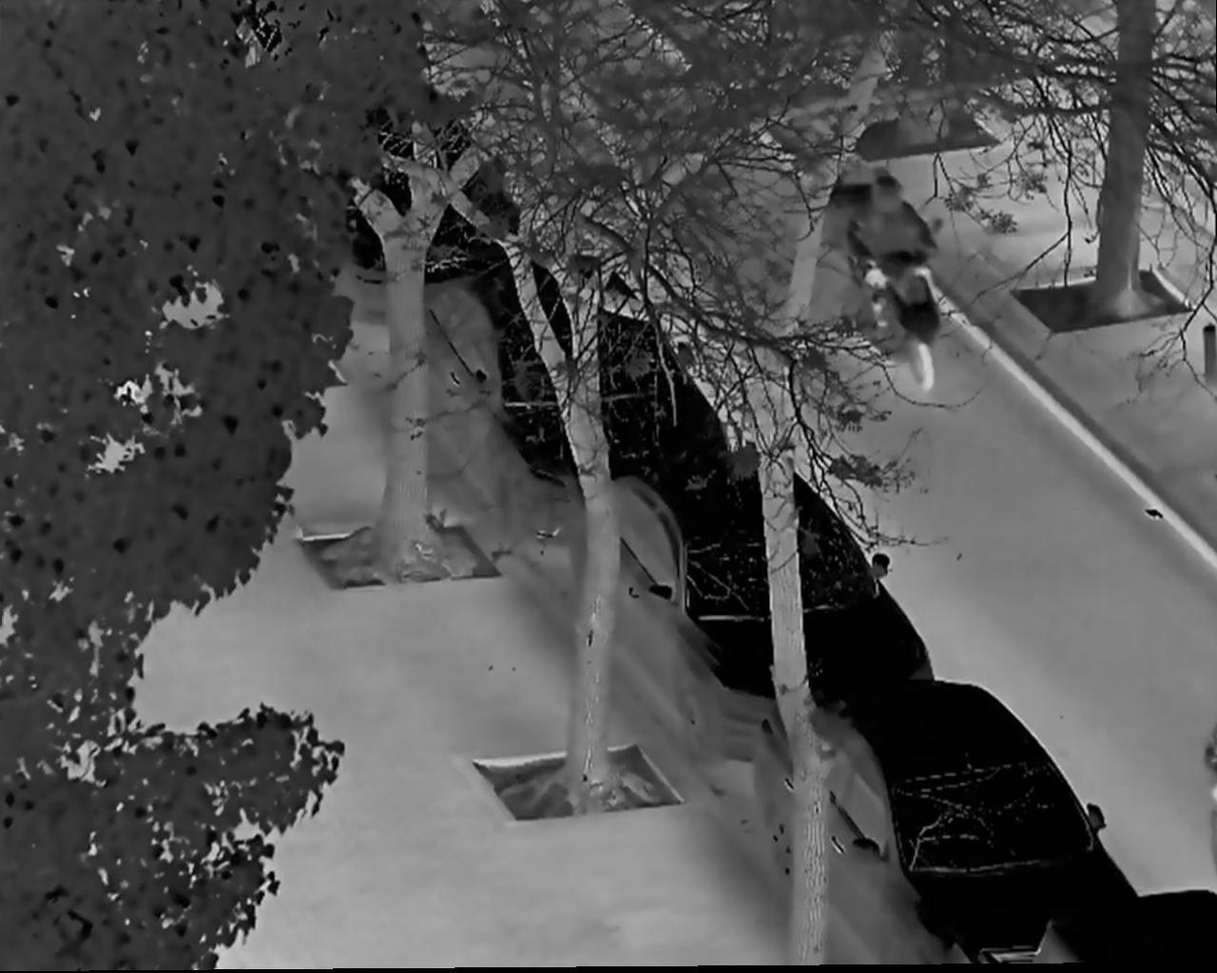person: (845, 180, 940, 342)
